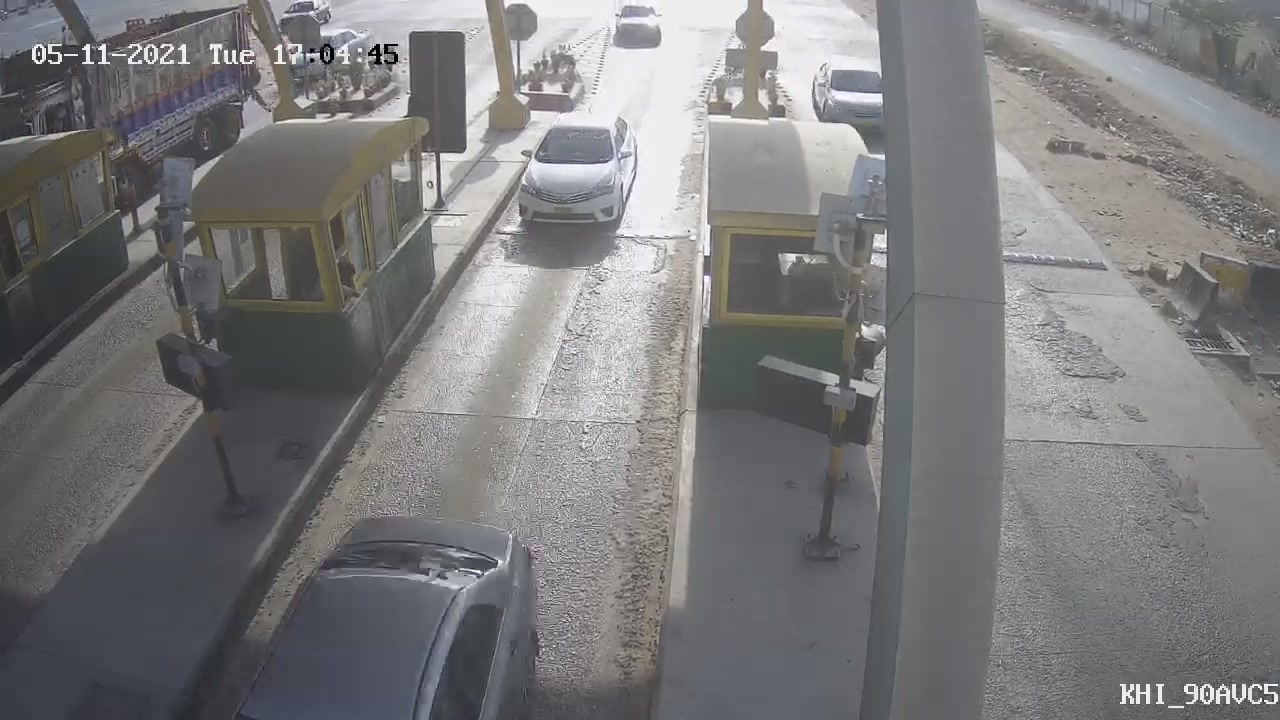F1: (499, 97, 652, 245)
